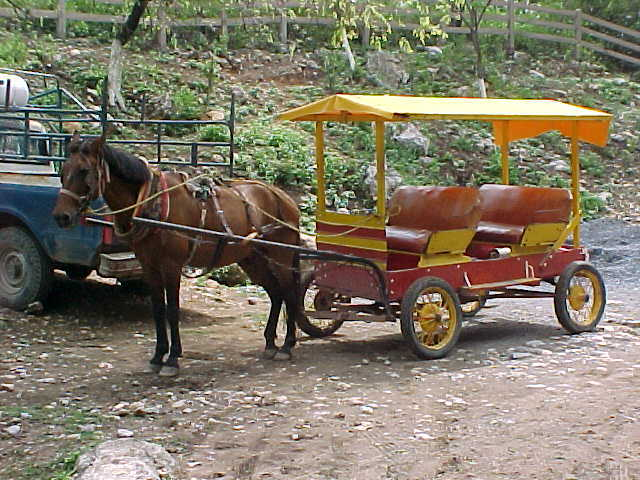horse: (51, 136, 309, 373)
